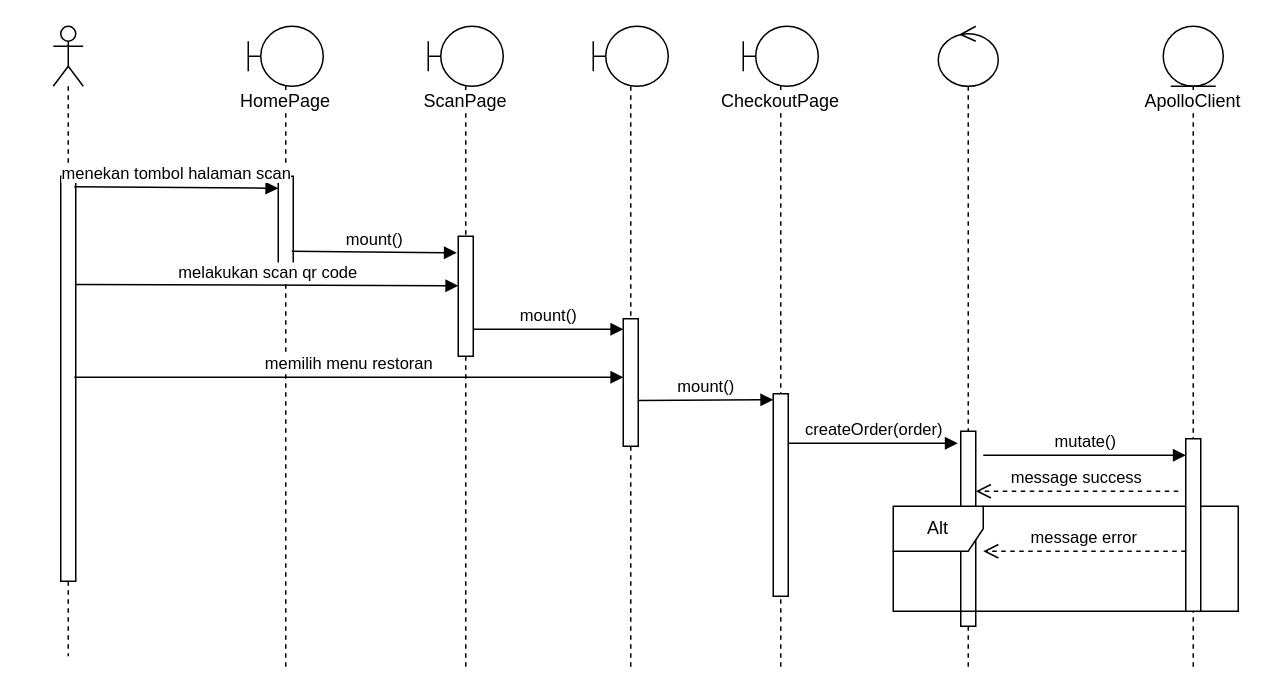
This 1268x698 diagram has some shape labels left out. The shapes that lost their labels are listed below. From the top down, each one's box as (x1, y1, x2, y2) in pixels, then its label:
(52, 25, 83, 656): Pelanggan
(592, 25, 668, 671): RestaurantPage
(937, 25, 998, 671): OrderingController
